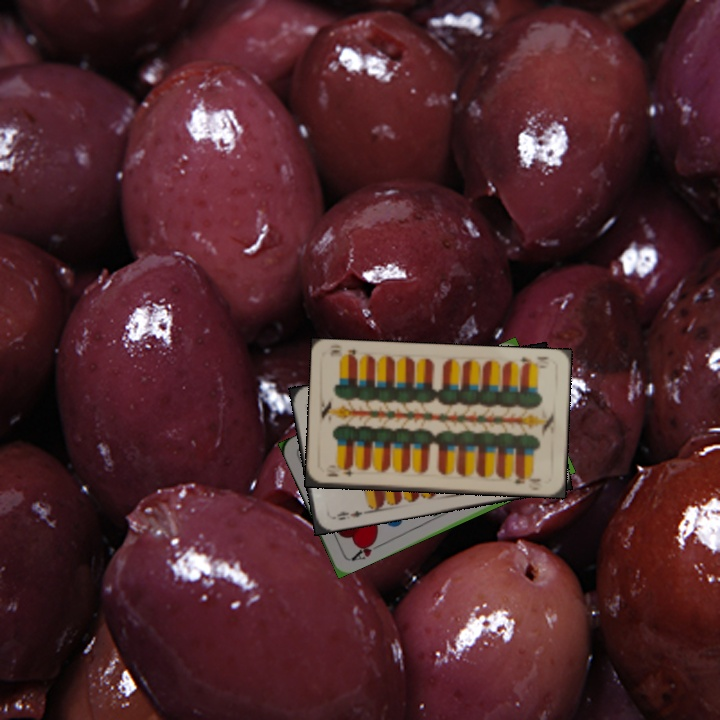E10: (322, 463, 361, 480), (515, 353, 552, 370)
E9: (328, 506, 365, 523)
HA: (347, 536, 384, 563)
